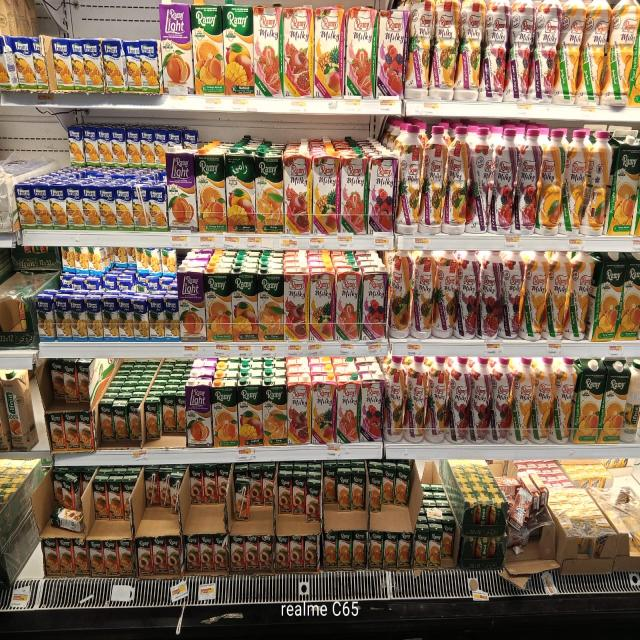ifruit_carton: (1, 368, 38, 451), (478, 501, 492, 526), (478, 538, 490, 560)
ramy_carton: (604, 132, 640, 239), (158, 1, 196, 94), (188, 2, 224, 96), (585, 254, 623, 342), (571, 358, 607, 442), (176, 258, 211, 343), (344, 6, 375, 100), (281, 5, 312, 98), (165, 149, 199, 232), (223, 5, 254, 96), (378, 7, 408, 101), (314, 6, 344, 99), (281, 141, 310, 237), (254, 149, 285, 237), (252, 6, 281, 100), (368, 146, 398, 236), (225, 150, 257, 234), (599, 358, 632, 439), (361, 252, 390, 343), (194, 150, 226, 232), (256, 262, 286, 345), (333, 256, 361, 344), (184, 371, 216, 447), (310, 149, 337, 237), (613, 252, 640, 340), (285, 252, 311, 343), (284, 362, 310, 448), (204, 270, 234, 344), (3, 34, 40, 93), (357, 366, 385, 442), (123, 39, 162, 93), (335, 369, 362, 445), (232, 270, 259, 344), (210, 378, 238, 448), (236, 379, 264, 448), (310, 368, 334, 448), (262, 375, 288, 448), (48, 37, 77, 94), (79, 38, 106, 94), (101, 38, 128, 94), (14, 178, 40, 229), (50, 504, 86, 534), (438, 518, 457, 570), (34, 295, 54, 343), (412, 523, 432, 570), (81, 184, 101, 230), (85, 296, 104, 344), (73, 409, 94, 452), (115, 184, 133, 232), (65, 185, 84, 230), (101, 184, 118, 231), (47, 183, 66, 225), (131, 299, 149, 343), (101, 297, 119, 341), (68, 126, 86, 169), (134, 185, 150, 232), (148, 298, 165, 342), (69, 297, 86, 341), (111, 401, 129, 442), (54, 294, 70, 340), (336, 468, 352, 512), (146, 399, 162, 442), (368, 529, 384, 571), (150, 538, 168, 575), (162, 392, 177, 436), (230, 534, 246, 574), (426, 534, 443, 570), (110, 128, 126, 166), (337, 531, 353, 569), (88, 539, 104, 577), (275, 533, 290, 573), (306, 481, 321, 521), (58, 538, 74, 575), (236, 478, 250, 520), (396, 462, 409, 507), (369, 469, 382, 513), (189, 466, 204, 504), (279, 472, 292, 514), (184, 535, 199, 571), (204, 466, 218, 504), (128, 128, 141, 168), (86, 126, 99, 165), (385, 530, 398, 568), (213, 532, 226, 570), (304, 534, 318, 569), (354, 532, 367, 567), (160, 471, 171, 507), (0, 62, 9, 83)
ramy_plastique: (576, 0, 610, 106), (605, 1, 639, 106), (583, 129, 614, 240), (554, 0, 586, 105), (562, 127, 592, 237), (536, 125, 564, 238), (394, 125, 422, 238), (422, 124, 450, 235), (516, 123, 542, 237), (480, 0, 509, 102), (446, 123, 472, 236), (491, 125, 517, 238), (534, 1, 562, 105), (507, 0, 535, 103), (458, 0, 486, 101), (468, 124, 493, 237), (564, 250, 595, 341), (433, 0, 461, 100), (522, 250, 552, 342), (403, 2, 429, 102), (547, 251, 574, 342), (501, 250, 527, 343), (531, 357, 558, 445), (466, 356, 492, 445), (434, 250, 459, 342), (479, 250, 504, 342), (454, 249, 479, 341), (422, 352, 447, 443), (508, 359, 534, 446), (552, 358, 578, 445), (489, 358, 515, 445), (410, 250, 435, 340), (447, 356, 472, 445), (404, 355, 428, 445), (390, 250, 414, 338), (381, 355, 403, 443)
